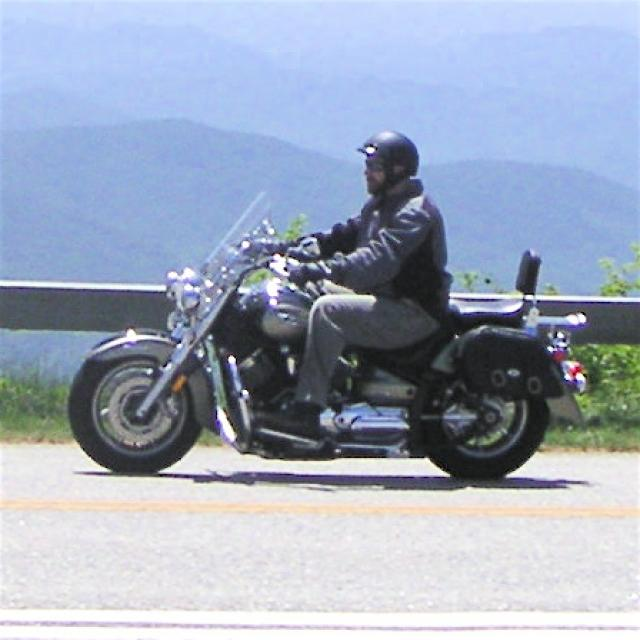motor: (65, 181, 590, 479)
